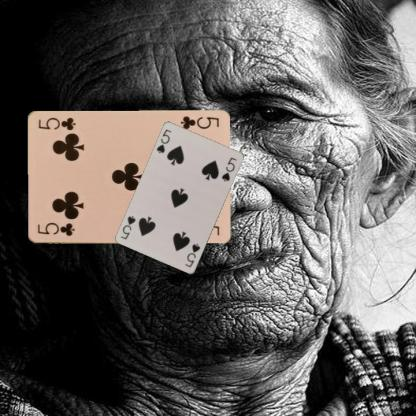5c: (35, 220, 76, 238), (178, 114, 220, 130)
5s: (154, 126, 173, 155), (183, 241, 202, 269)
